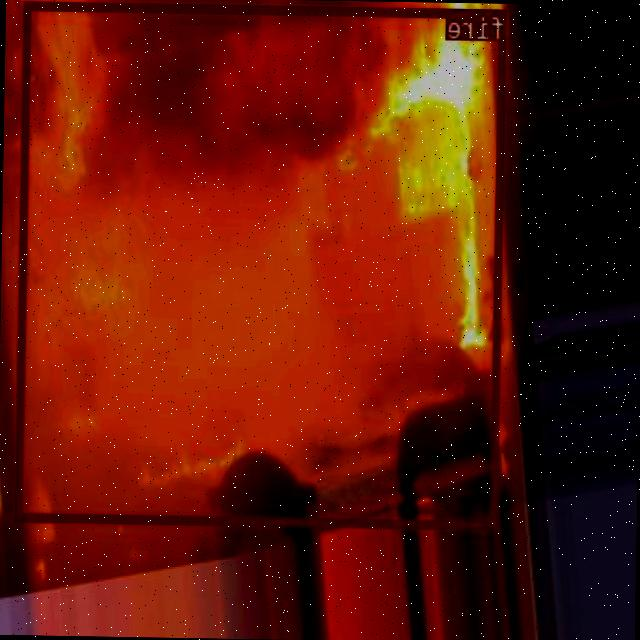fire: (17, 0, 506, 527)
